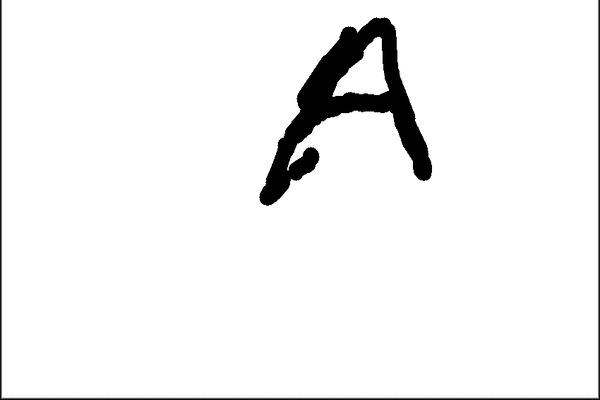A: (250, 12, 460, 211)
